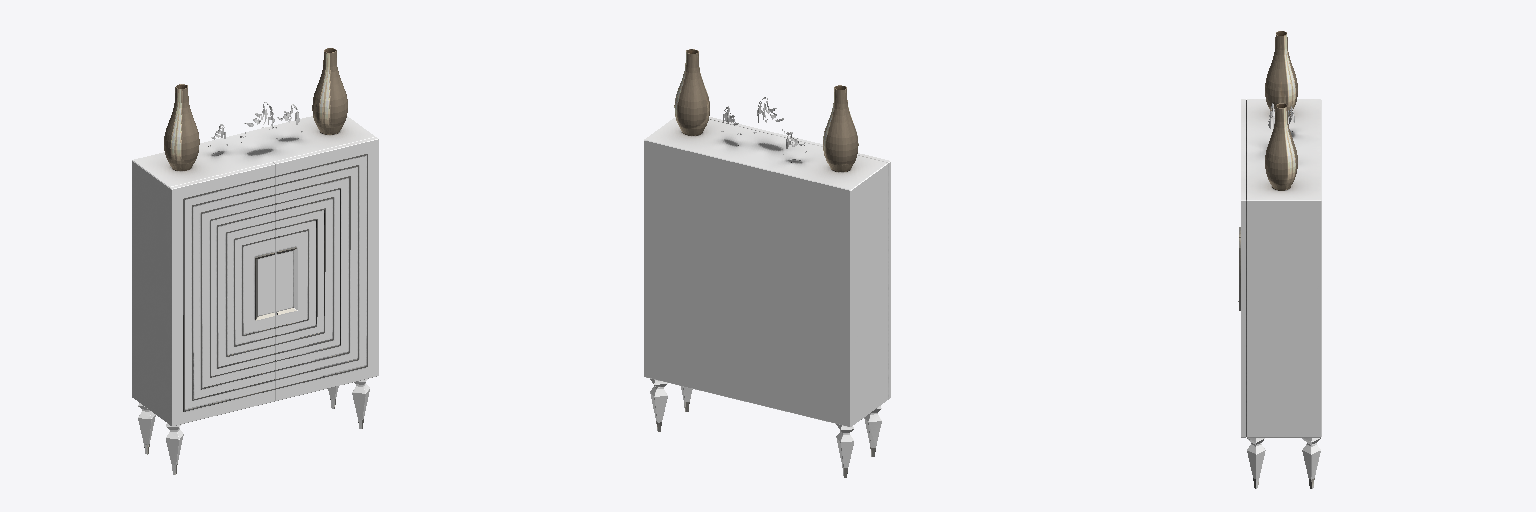
3 renders of one model, left to right at view 1: azimuth 30°, elevation 25°; view 2: azimuth 150°, elevation 25°; view 3: azimuth 270°, elevation 25°, orthographic.
Visible parts, largest first — view 1: solid_002, solid_003, solid_004; view 2: solid_002, solid_004; view 3: solid_002, solid_004.
Boxes of the visible parts, <box> form: solid_002: <box>132,116,378,464</box>; solid_003: <box>183,154,367,411</box>; solid_004: <box>164,48,347,170</box>; solid_002: <box>644,117,890,467</box>; solid_004: <box>674,49,858,171</box>; solid_002: <box>1241,99,1321,479</box>; solid_004: <box>1265,31,1297,190</box>.
Bounding box in the file's own units: 0.8936 × 1.54 × 0.3096.
Materials: 1 (1 with a texture image).